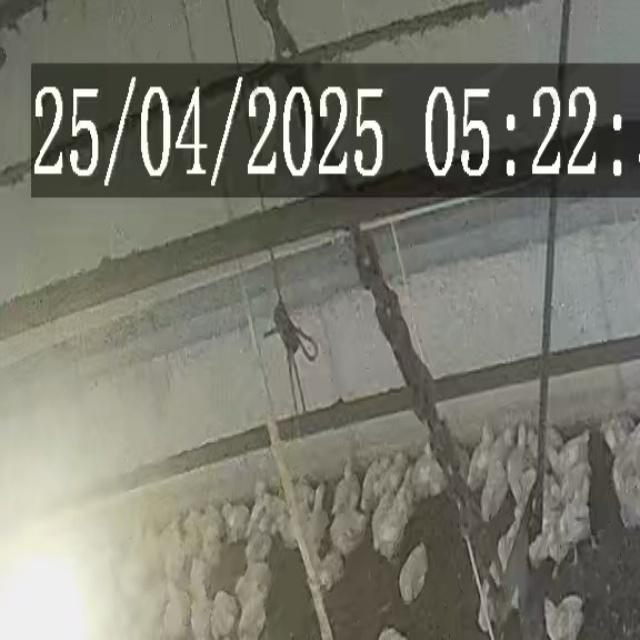chicken: (374, 496, 408, 561), (564, 500, 602, 556), (462, 423, 493, 489), (398, 542, 429, 606), (543, 595, 583, 640), (557, 426, 593, 474), (504, 426, 530, 487), (164, 584, 190, 640), (416, 442, 442, 497), (330, 514, 364, 554), (310, 480, 330, 547), (332, 465, 359, 514), (543, 532, 572, 577), (482, 463, 505, 519), (239, 592, 264, 640), (236, 564, 272, 597), (317, 548, 344, 588), (213, 592, 235, 640), (360, 463, 380, 511), (220, 503, 247, 538), (384, 454, 407, 494), (192, 594, 212, 640), (167, 531, 185, 580), (485, 431, 510, 466), (190, 558, 210, 598), (243, 536, 272, 562)
